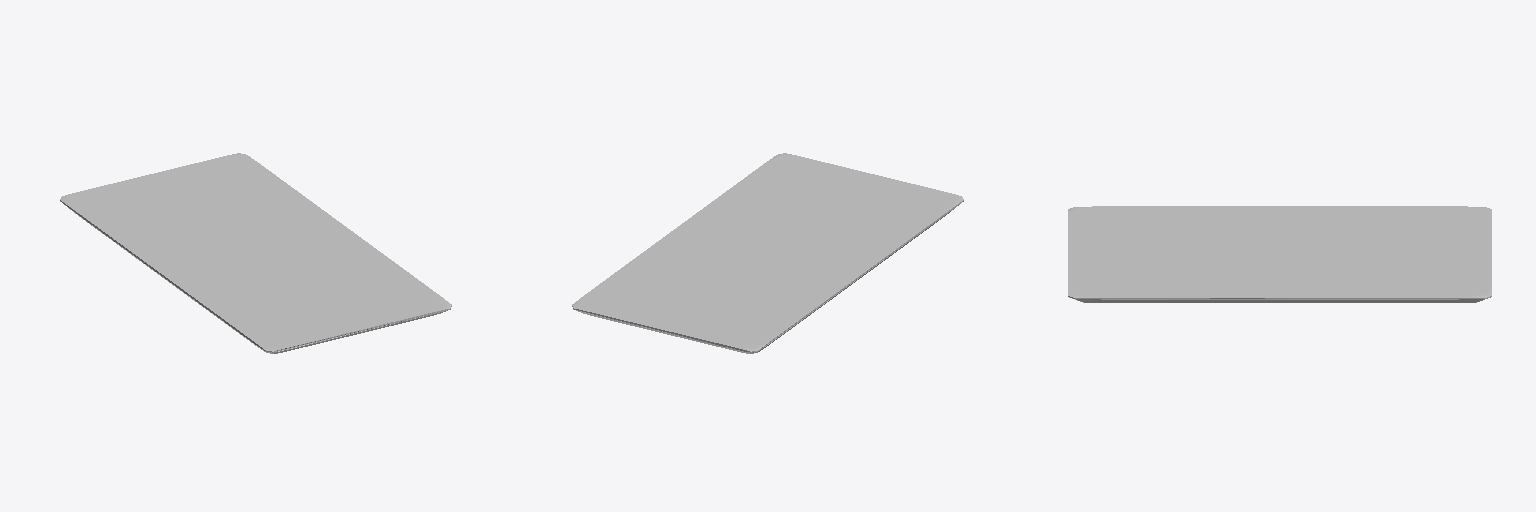
The model's file is frame.obj.
3 views of the same model, side by side, from view 1: azimuth 30°, elevation 25°; view 2: azimuth 150°, elevation 25°; view 3: azimuth 270°, elevation 25° (orthographic).
Visible parts, largest first — view 1: Cube_Cube; view 2: Cube_Cube; view 3: Cube_Cube.
Boxes of the visible parts, box(x1,y1,x2,y2) form: Cube_Cube: box(60, 153, 451, 353); Cube_Cube: box(572, 153, 963, 353); Cube_Cube: box(1068, 206, 1491, 302).
Size of the model in its own units: 497 by 20.32 by 978.